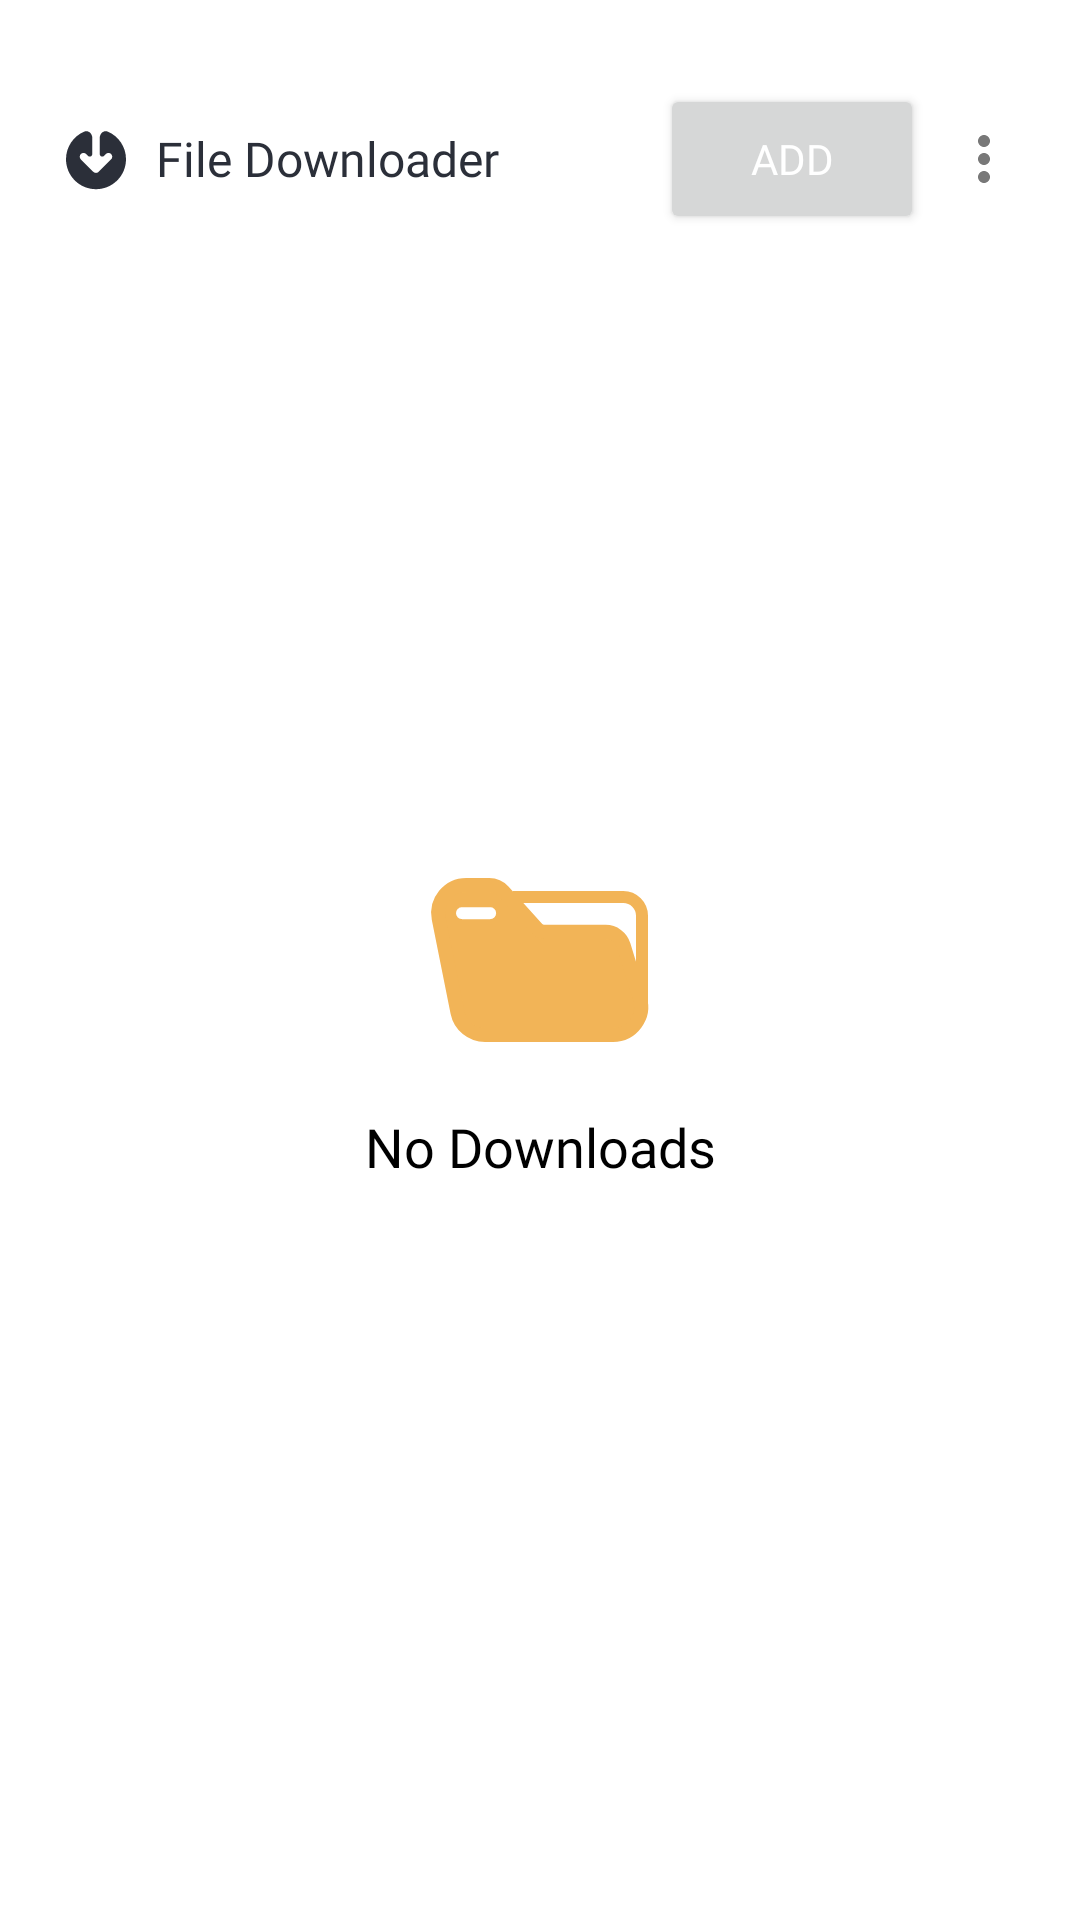

Icons on this 1080 × 1920 Android screen, each with its box as (x1, y1, x2, y2):
folder: (431, 878, 649, 1042)
menu: (978, 135, 990, 183)
